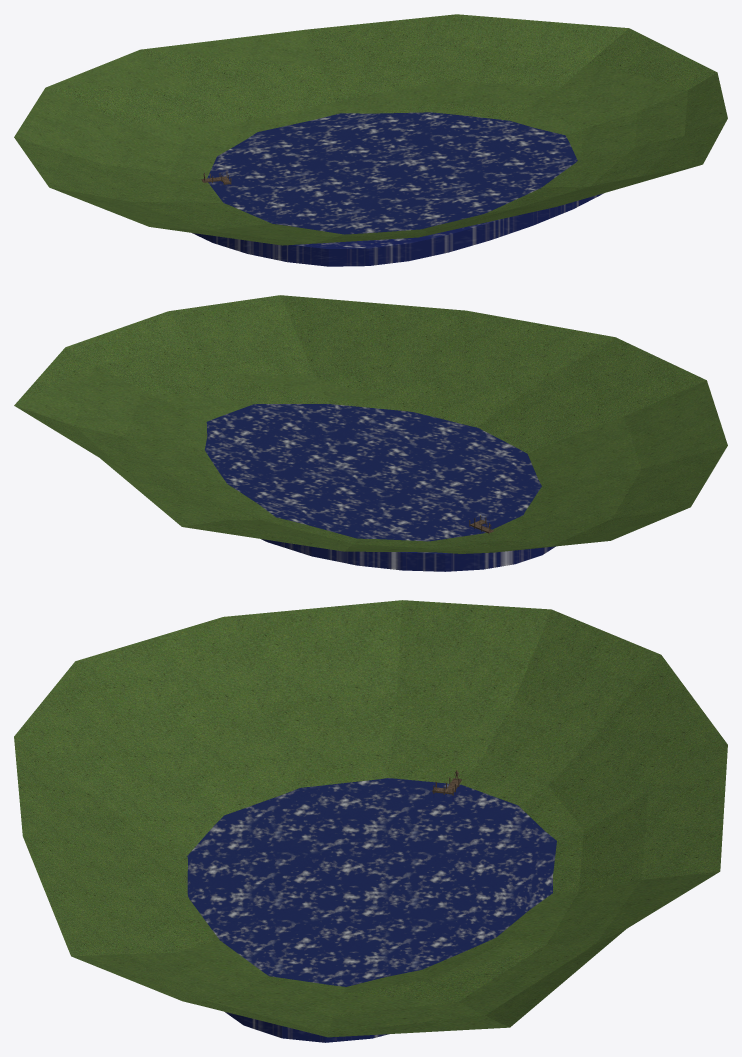
The model's file is lake.glb.
The picture shows the model from 3 angles, top to bottom: view 1: azimuth 30°, elevation 25°; view 2: azimuth 150°, elevation 25°; view 3: azimuth 270°, elevation 25°; orthographic projection. The views are drawn at different scales.
Parts seen in each view (by area): view 1: grass-out, water-out; view 2: grass-out, water-out; view 3: grass-out, water-out.
Boxes of the visible parts, <box> form: grass-out: <box>14,14,727,245</box>; water-out: <box>192,112,604,266</box>; grass-out: <box>14,295,727,553</box>; water-out: <box>204,404,555,571</box>; grass-out: <box>14,600,727,1037</box>; water-out: <box>187,778,556,1042</box>.
Bounding box in the file's own units: 114 × 13.15 × 84.09.
Materials: 4 (4 with a texture image).
